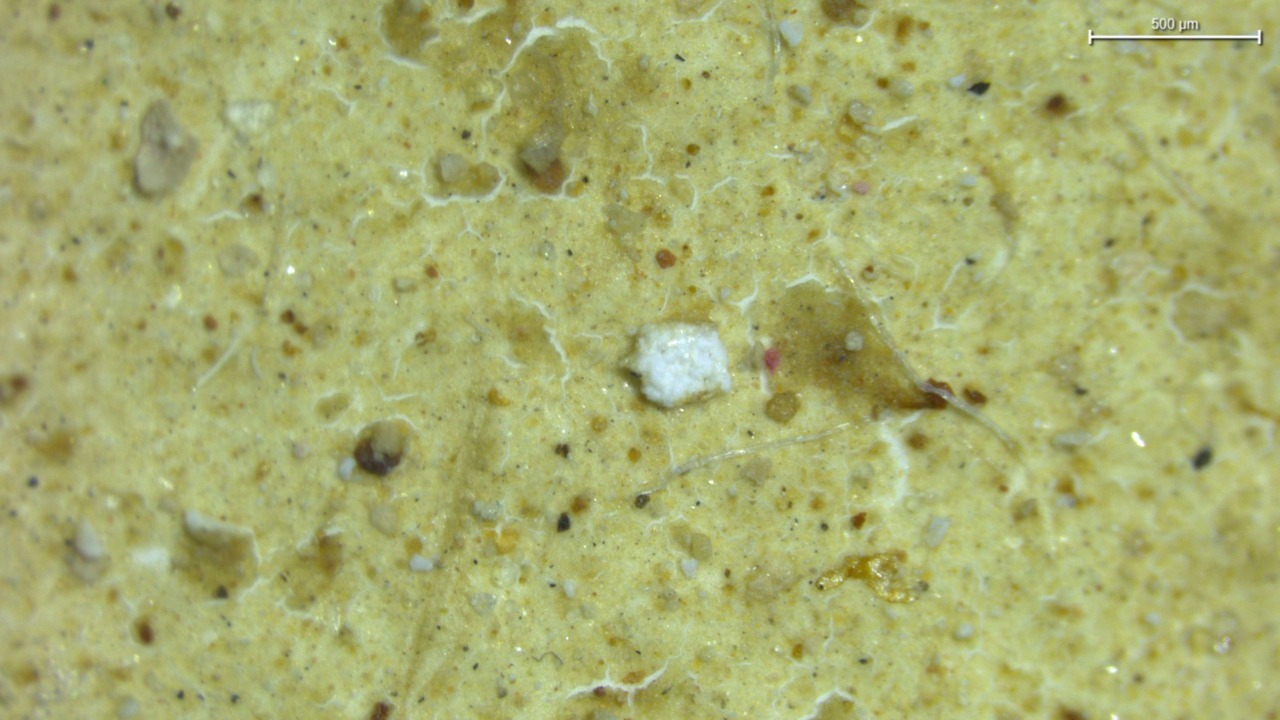microplastic_fragment: (627, 323, 731, 407), (135, 99, 198, 196)
